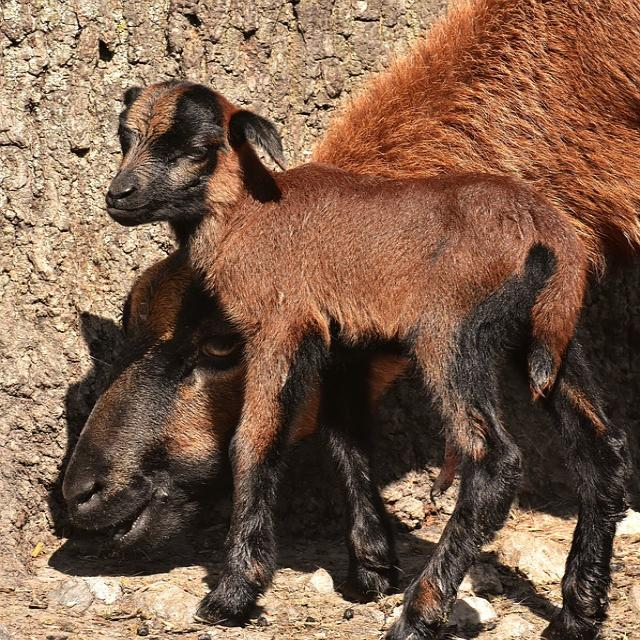butterfly: (58, 0, 638, 637)
